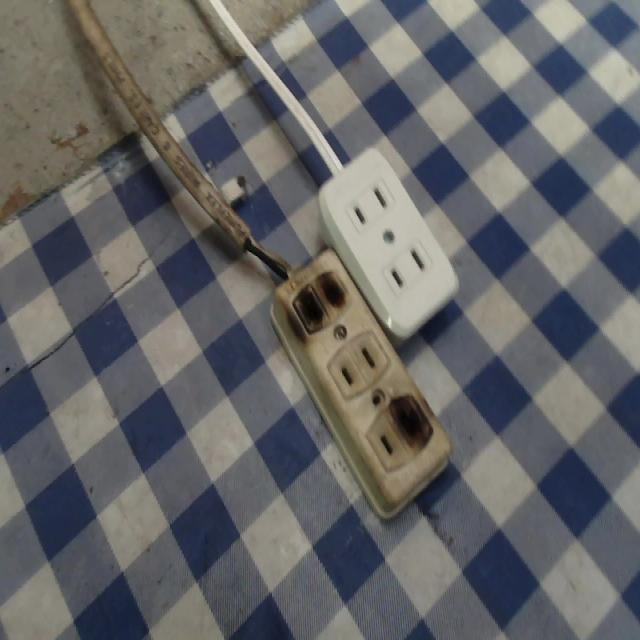-: (283, 262, 353, 338), (385, 391, 442, 449)
